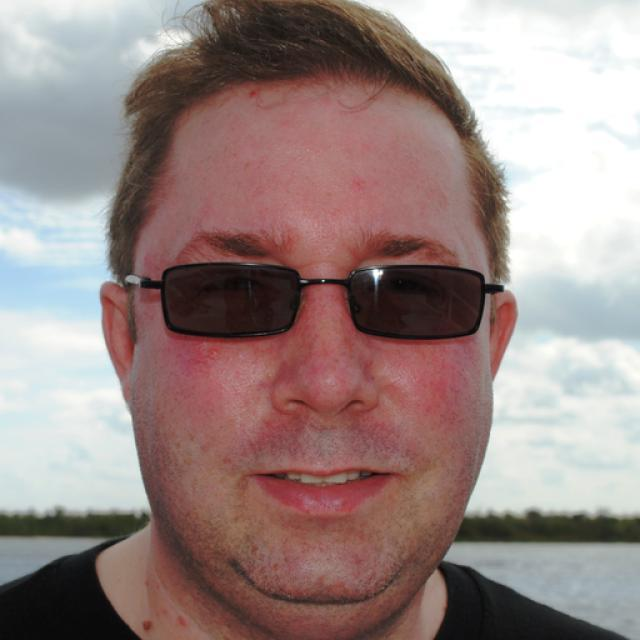neutral: (128, 77, 492, 622)
